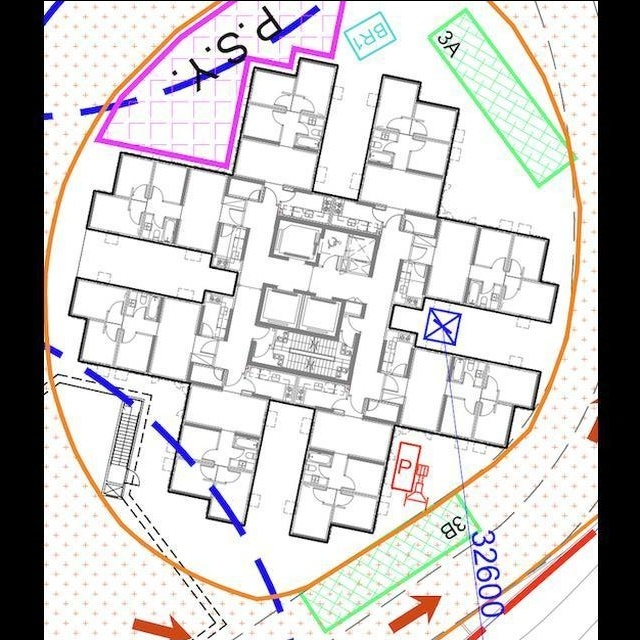tower_crane: (422, 309, 464, 351)
